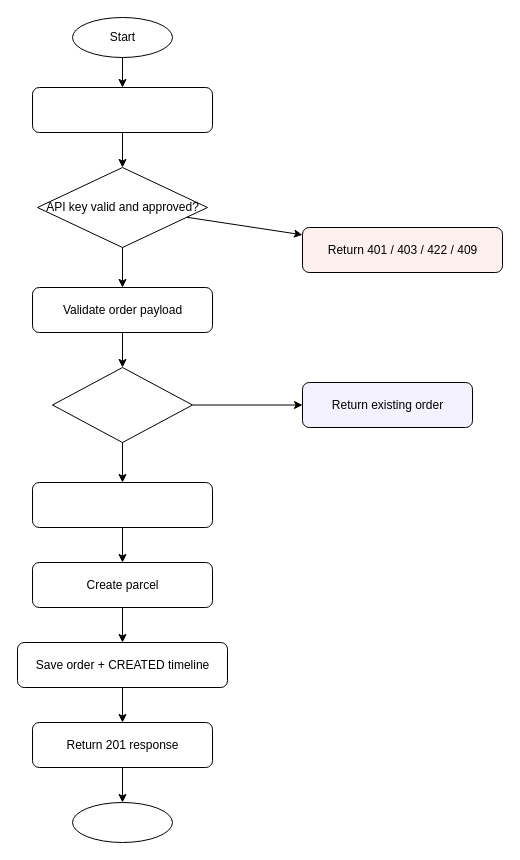
Image size: 520x860. Some labels were removed from this diagram. The centre of each missing label's shape, as x and y in pixels:
Duplicate request?: (122,404)
End: (122,822)
Receive API request: (122,109)
Resolve pickup details: (122,505)
